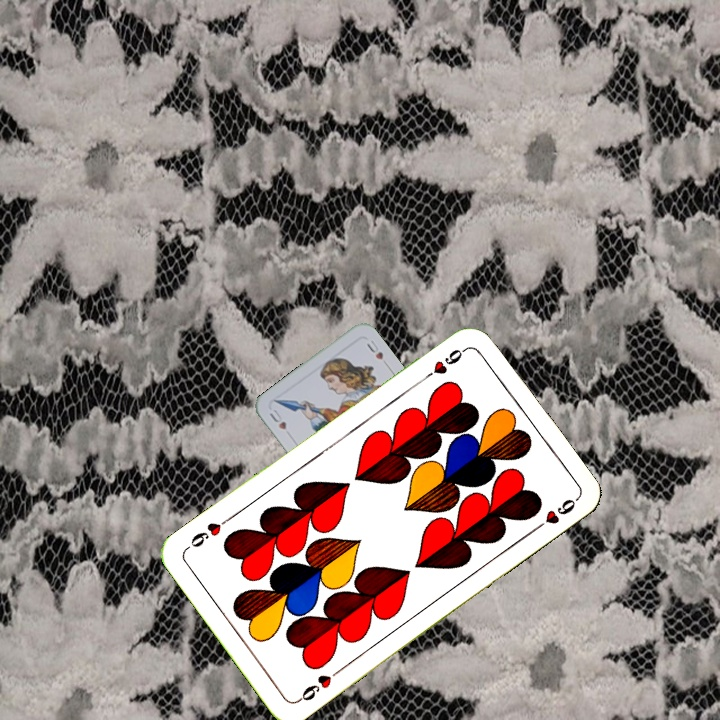H9: (293, 664, 344, 706), (418, 344, 469, 384)
HU: (265, 405, 289, 432)
